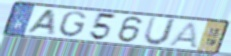5: (89, 11, 118, 42)
6: (115, 15, 145, 44)
A: (166, 21, 199, 50), (23, 9, 56, 35)
G: (56, 10, 88, 39)
U: (141, 16, 179, 48)
